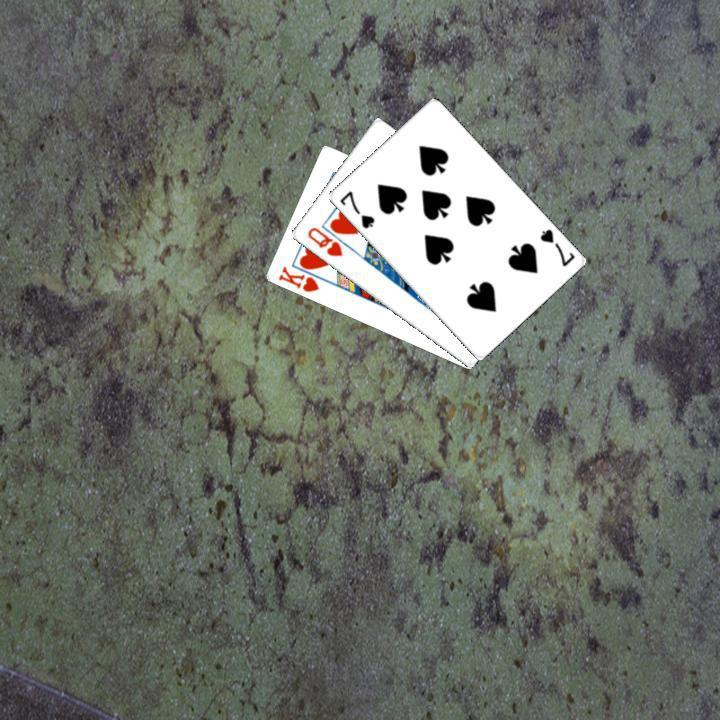7: (334, 186, 377, 231), (535, 224, 577, 269)
K: (273, 262, 321, 294)
Q: (302, 223, 344, 259)
